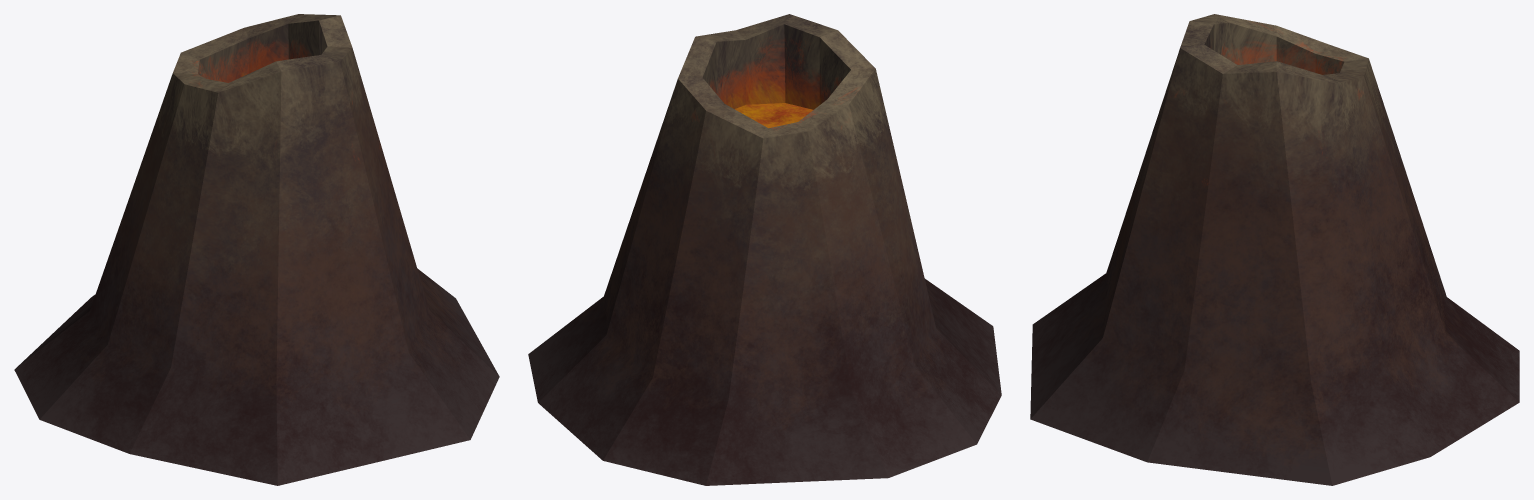
File: volcano_001.obj
3 views of the same model, side by side, from view 1: azimuth 30°, elevation 25°; view 2: azimuth 150°, elevation 25°; view 3: azimuth 270°, elevation 25° (orthographic). The views are drawn at different scales.
Visible parts, largest first — view 1: volcano_001_GEO; view 2: volcano_001_GEO; view 3: volcano_001_GEO.
Boxes of the visible parts, x1,y1,x2,y2 form: volcano_001_GEO: (14,14,499,485); volcano_001_GEO: (528,14,1001,485); volcano_001_GEO: (1030,14,1519,485).
Size of the model in its own units: 5.58 by 4.13 by 5.33.
1 material, 1 textured.
